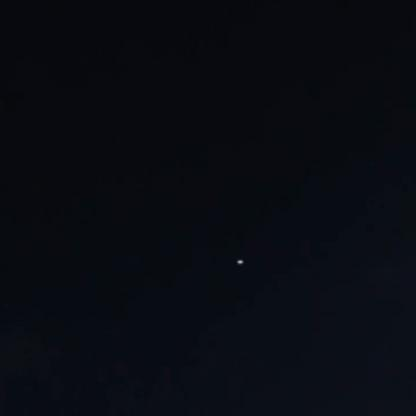ball: (231, 258, 249, 269)
